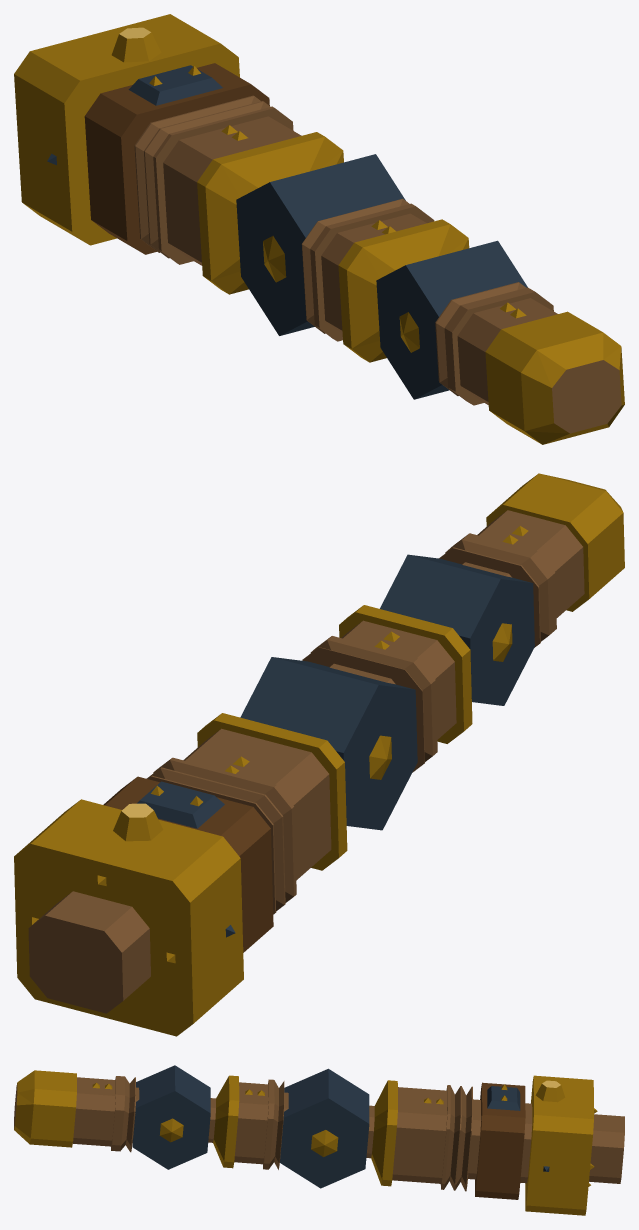
The model's file is wooden-prosthetic-finger-ffd111.glb.
3 renders of one model, top to bottom at view 1: azimuth 30°, elevation 25°; view 2: azimuth 150°, elevation 25°; view 3: azimuth 270°, elevation 25°, orthographic. The views are drawn at different scales.
Visible parts, largest first — view 1: middle-finger-phalanx-proximal, middle-finger-phalanx-intermediate, middle-finger-phalanx-distal; view 2: middle-finger-phalanx-proximal, middle-finger-phalanx-intermediate, middle-finger-phalanx-distal; view 3: middle-finger-phalanx-proximal, middle-finger-phalanx-intermediate, middle-finger-phalanx-distal.
Part boxes in pixels (x1,y1,x2,y2): middle-finger-phalanx-proximal: (14,14,405,335); middle-finger-phalanx-intermediate: (301,198,527,399); middle-finger-phalanx-distal: (435,282,624,444); middle-finger-phalanx-proximal: (14,657,417,1036); middle-finger-phalanx-intermediate: (302,554,534,772); middle-finger-phalanx-distal: (439,473,624,647); middle-finger-phalanx-proximal: (280,1068,624,1215); middle-finger-phalanx-intermediate: (132,1065,288,1169); middle-finger-phalanx-distal: (14,1070,139,1152).
Bounding box in the file's own units: 0.0234 × 0.0236 × 0.1097.
